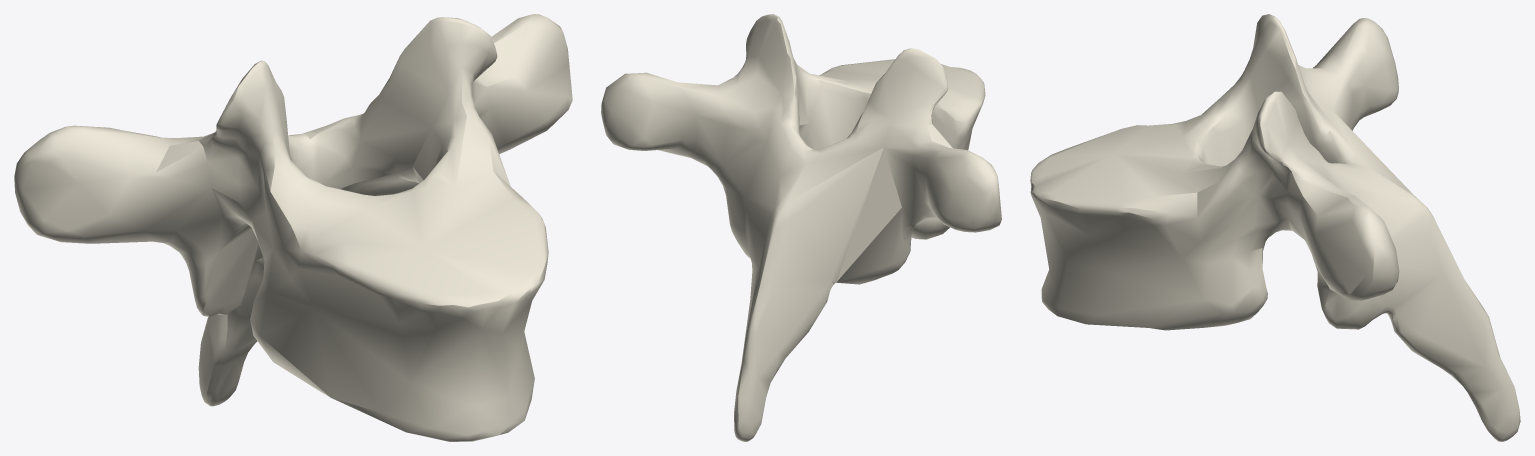
The model's file is fma9922_fj3169.glb.
3 renders of one model, left to right at view 1: azimuth 30°, elevation 25°; view 2: azimuth 150°, elevation 25°; view 3: azimuth 270°, elevation 25°, orthographic. The views are drawn at different scales.
Parts seen in each view (by area): view 1: FMA9922_FJ3169; view 2: FMA9922_FJ3169; view 3: FMA9922_FJ3169.
Part boxes in pixels (x1,y1,x2,y2): FMA9922_FJ3169: [14, 14, 572, 441]; FMA9922_FJ3169: [601, 14, 1001, 441]; FMA9922_FJ3169: [1030, 14, 1520, 441].
Bounding box in the file's own units: 0.071 × 0.0575 × 0.066.
